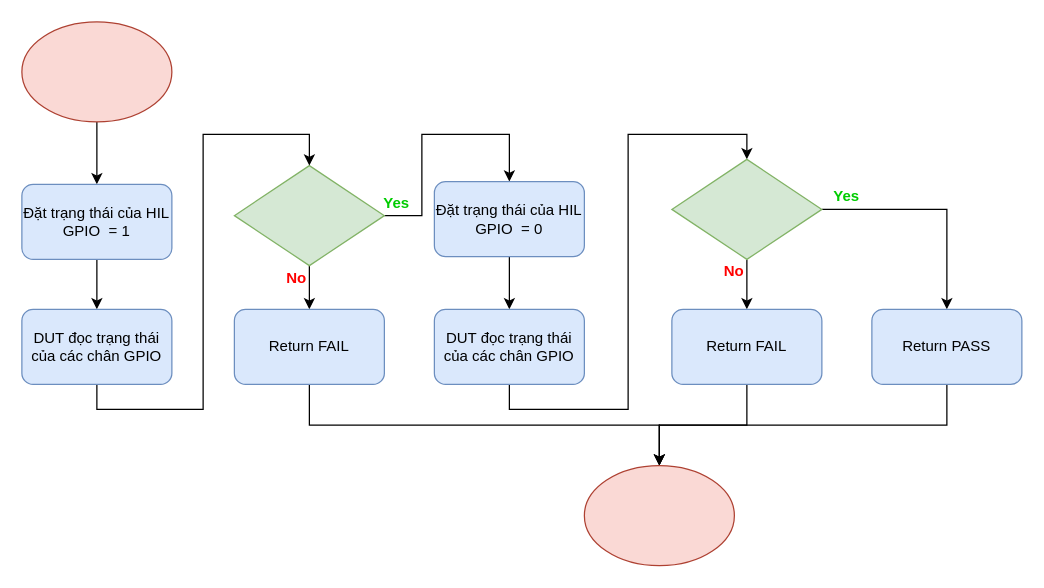
Some shapes in this 1044 by 588 pixel diagram are drawn without their labels. Each missing label, with the box of its shape:
Bắt đầu: (21, 21, 172, 122)
kết quả đọc về == 0?: (671, 158, 822, 259)
kết quả đọc về == 1?: (233, 164, 384, 266)
Kết thúc: (583, 464, 734, 566)
